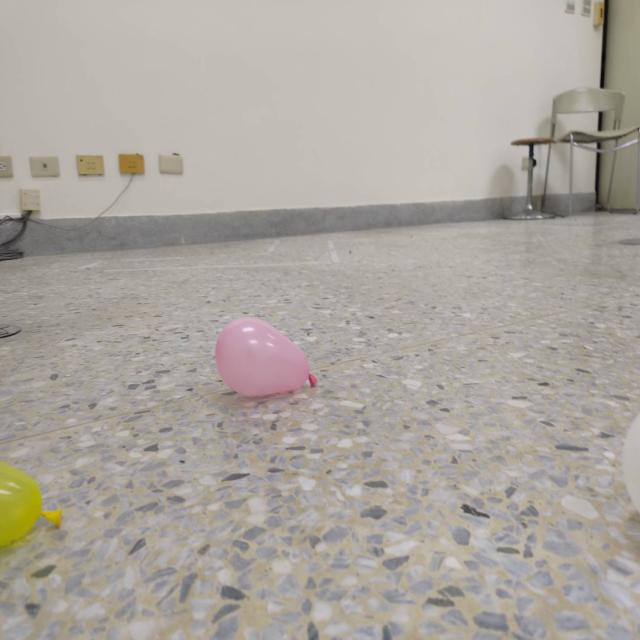other: (215, 314, 318, 397), (0, 460, 61, 545), (622, 413, 640, 515)
